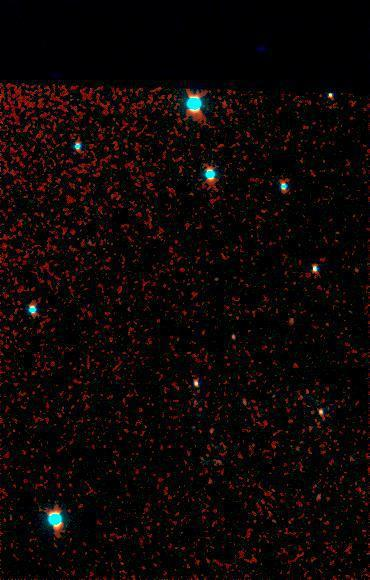star: (197, 468, 227, 498)
